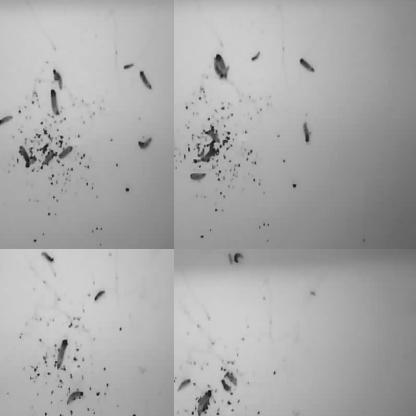PtecticusTenebrifer: (56, 340, 68, 369), (197, 391, 210, 416), (299, 57, 316, 75), (217, 53, 228, 78), (66, 390, 85, 404), (50, 90, 59, 119), (139, 70, 152, 90), (137, 136, 153, 150), (59, 144, 73, 160), (213, 57, 223, 79), (302, 120, 311, 144), (53, 69, 63, 90), (177, 377, 191, 392), (189, 171, 208, 181), (0, 114, 13, 127), (233, 251, 245, 265), (41, 251, 54, 263), (174, 134, 180, 159), (94, 289, 106, 301), (0, 138, 7, 157), (252, 51, 262, 64), (280, 249, 298, 256), (368, 249, 389, 255), (16, 0, 27, 9), (311, 249, 328, 254), (30, 249, 46, 254), (174, 258, 182, 268), (114, 249, 130, 253), (174, 0, 183, 7), (174, 249, 181, 258), (174, 0, 180, 10), (0, 366, 6, 376), (0, 0, 9, 6), (174, 137, 176, 157), (0, 249, 7, 254)
